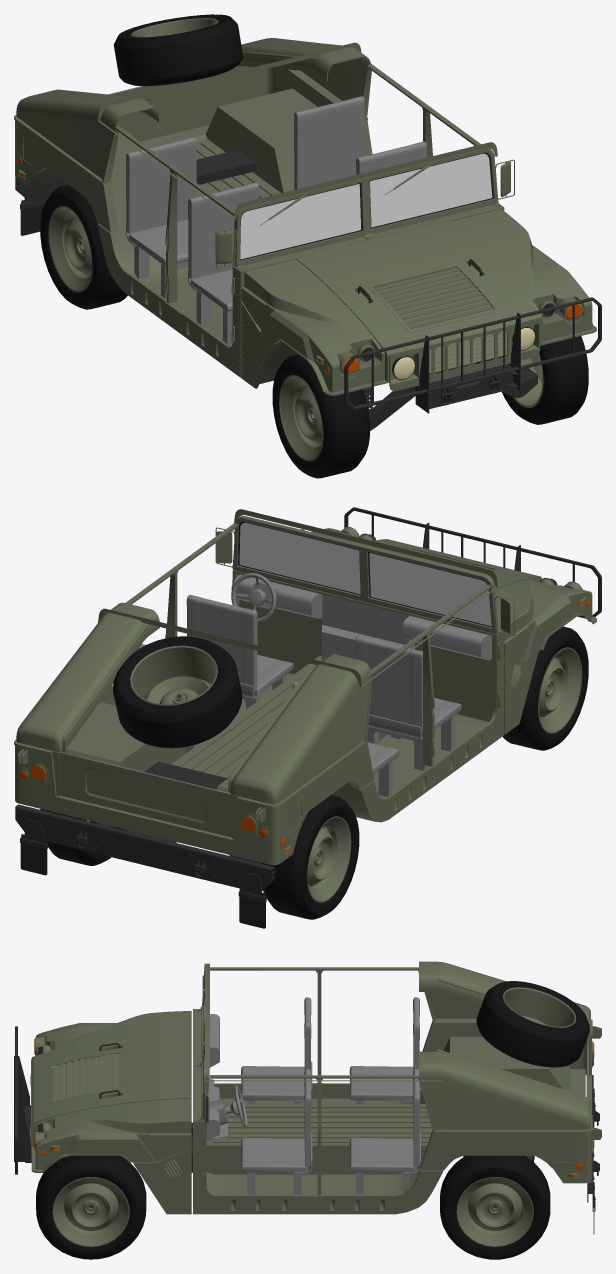
Rendered from military-jeep.fbx.
The picture shows the model from 3 angles, top to bottom: view 1: azimuth 30°, elevation 25°; view 2: azimuth 150°, elevation 25°; view 3: azimuth 270°, elevation 25°; orthographic projection. The views are drawn at different scales.
Visible parts, largest first — view 1: Hummer, RightFrontWheel, SpareWheel, RightBackWheel, LeftFrontWheel; view 2: Hummer, SpareWheel, RightBackWheel, RightFrontWheel, LeftBackWheel; view 3: Hummer, LeftBackWheel, LeftFrontWheel, SpareWheel.
Part boxes in pixels (bbox=[...]): Hummer: bbox=[14, 38, 601, 430]; RightFrontWheel: bbox=[272, 354, 369, 478]; SpareWheel: bbox=[113, 14, 242, 86]; RightBackWheel: bbox=[40, 185, 127, 309]; LeftFrontWheel: bbox=[498, 319, 588, 424]; Hummer: bbox=[14, 507, 601, 928]; SpareWheel: bbox=[113, 636, 242, 748]; RightBackWheel: bbox=[260, 795, 359, 919]; RightFrontWheel: bbox=[502, 626, 588, 750]; LeftBackWheel: bbox=[40, 809, 111, 865]; Hummer: bbox=[14, 961, 601, 1234]; LeftBackWheel: bbox=[440, 1155, 550, 1259]; LeftFrontWheel: bbox=[36, 1155, 146, 1259]; SpareWheel: bbox=[476, 981, 589, 1067].
Bounding box in the file's own units: 290 × 228 × 564.
